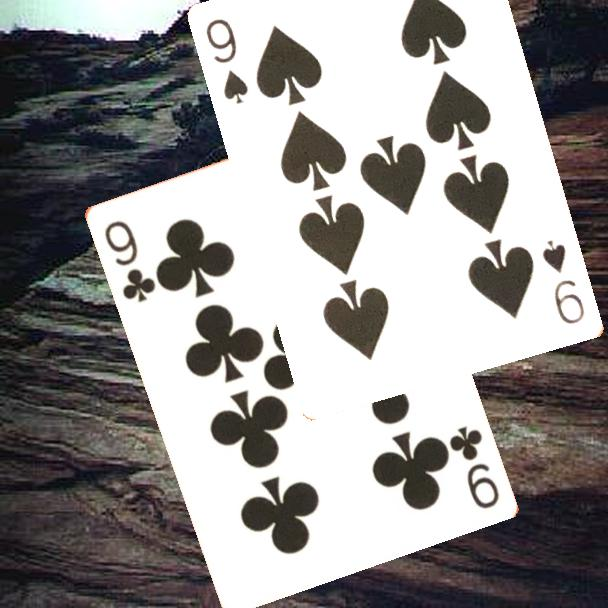c09: (445, 422, 502, 512), (100, 217, 158, 305)
s09: (202, 15, 252, 108), (539, 237, 588, 328)
